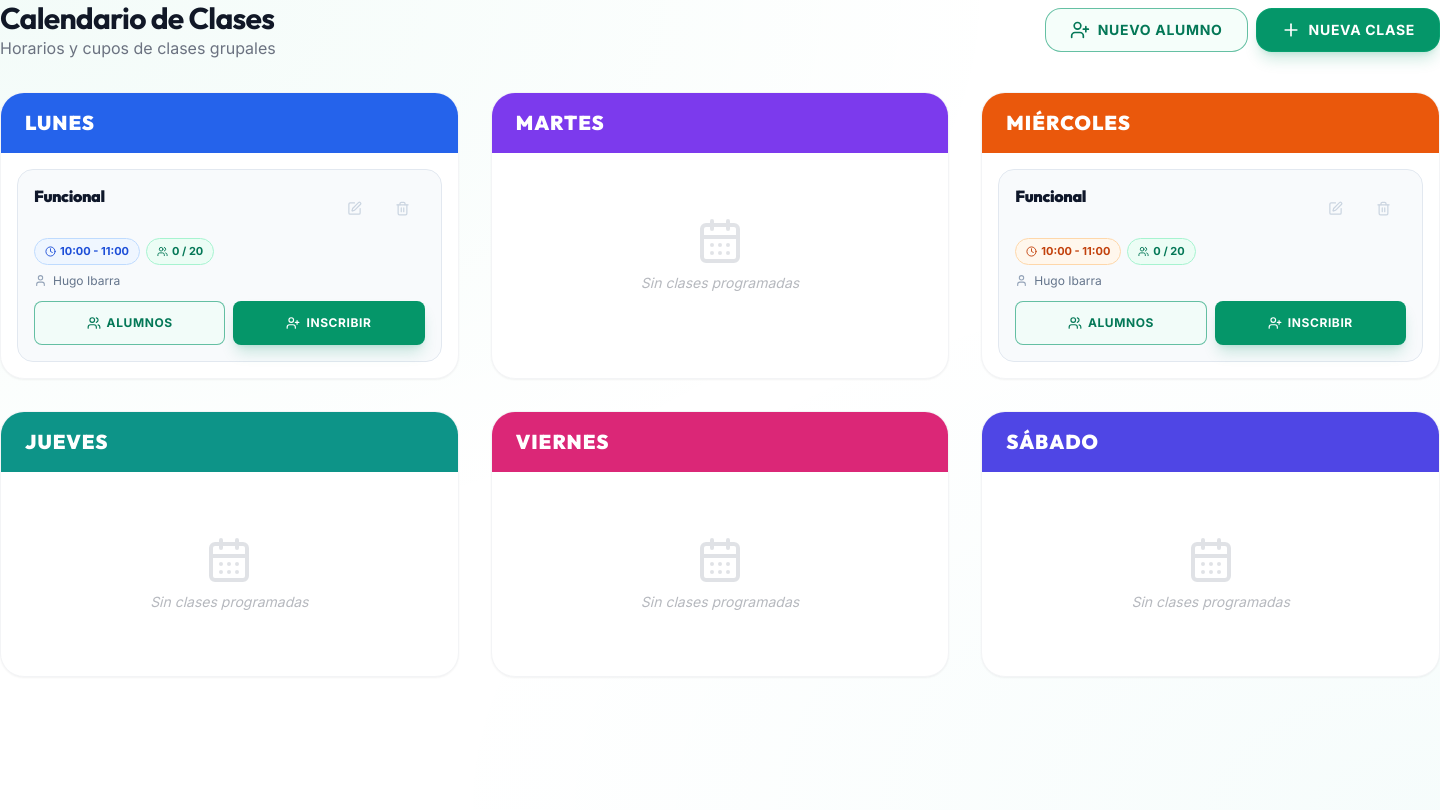
Test case: ClassesPage - selector de clase al asignar un alumno (AC-0003-12) › la opción de la clase muestra Lunes y Miércoles
Click the button "Nuevo Alumno": [1146, 30] box x1=1045 y1=8 x2=1248 y2=52
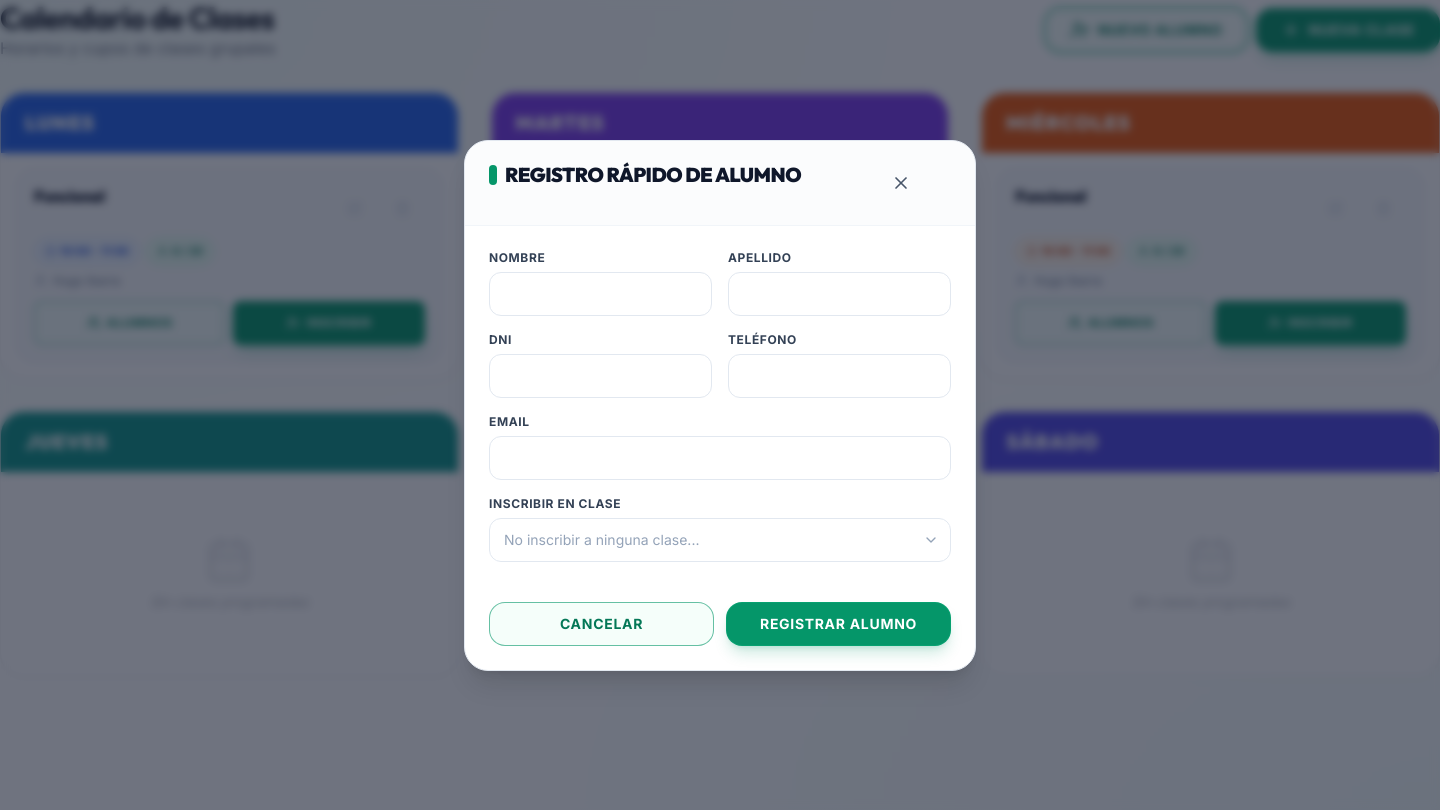
Now the heading "Registro Rápido de Alumno" is shown, box x1=489 y1=160 x2=801 y2=188
Click the dropdown labelled "Inscribir en Clase": [720, 540] box x1=489 y1=518 x2=951 y2=562
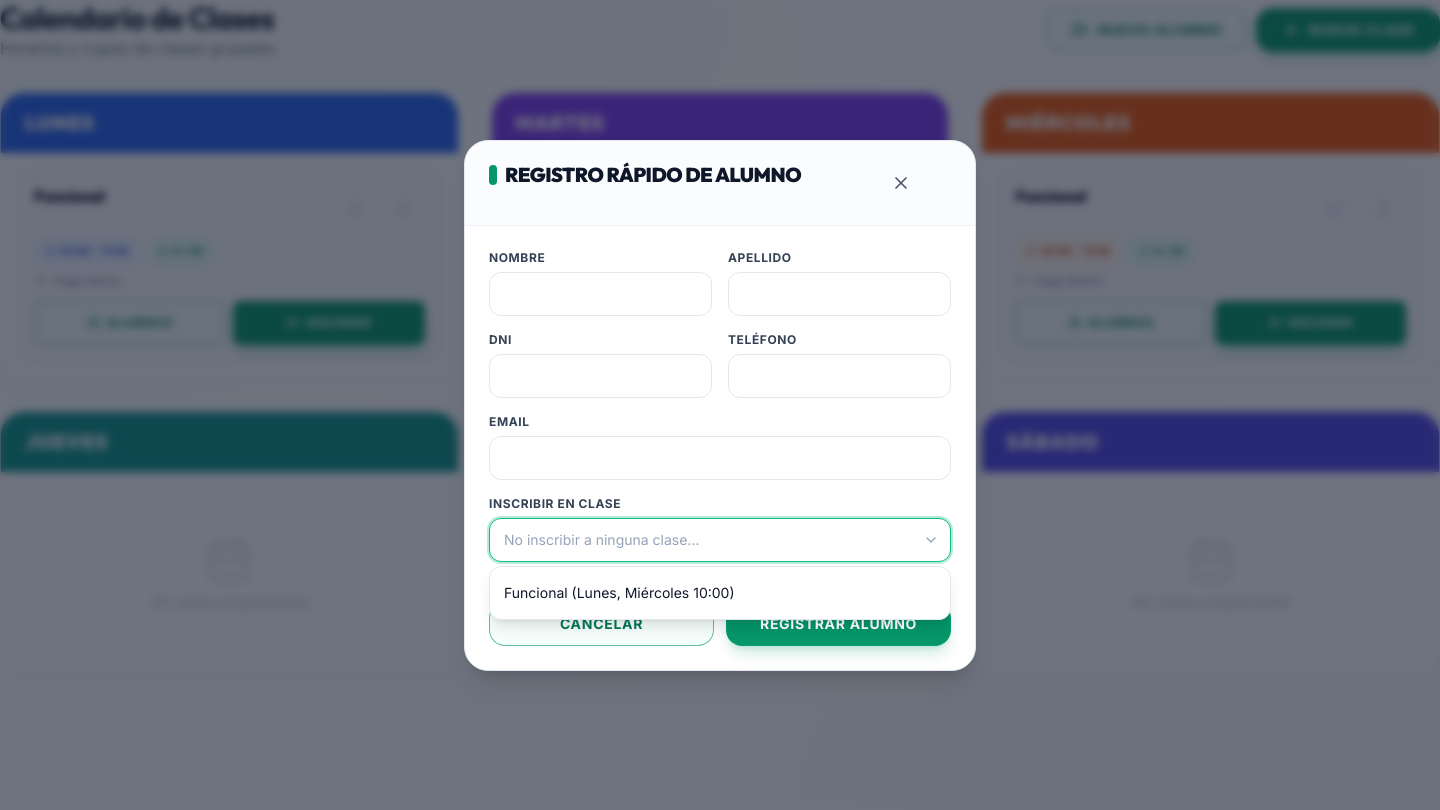
Now the option "Funcional (Lunes, Miércoles 10:00)" is shown, box x1=504 y1=584 x2=734 y2=600
